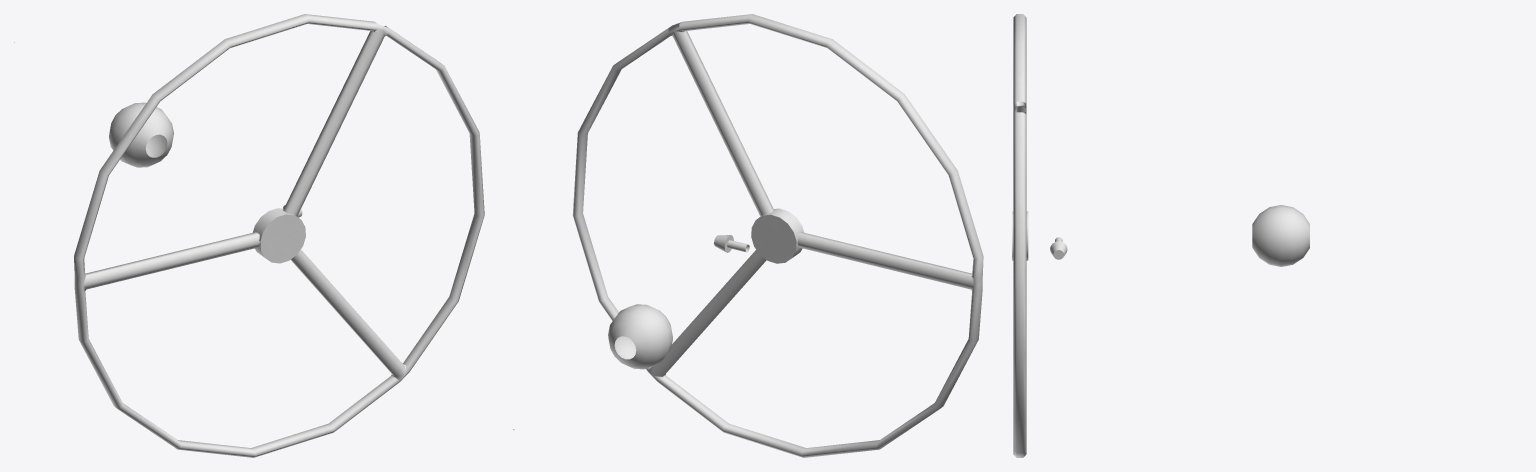
The model's file is MeshDeskLamp_9_0_GeomSubset_1.obj.
The picture shows the model from 3 angles, left to right: view 1: azimuth 30°, elevation 25°; view 2: azimuth 150°, elevation 25°; view 3: azimuth 270°, elevation 25°; orthographic projection. The views are drawn at different scales.
Visible parts, largest first — view 1: MeshDeskLamp_9_0_GeomSubset_1; view 2: MeshDeskLamp_9_0_GeomSubset_1; view 3: MeshDeskLamp_9_0_GeomSubset_1.
Boxes of the visible parts, x1,y1,x2,y2 form: MeshDeskLamp_9_0_GeomSubset_1: (14, 14, 484, 457); MeshDeskLamp_9_0_GeomSubset_1: (513, 14, 983, 457); MeshDeskLamp_9_0_GeomSubset_1: (1012, 14, 1309, 457).
Size of the model in its own units: 0.4654 by 0.4674 by 0.5315.
